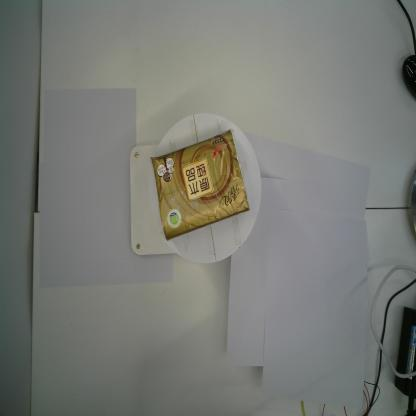Tissue: (150, 127, 250, 242)
